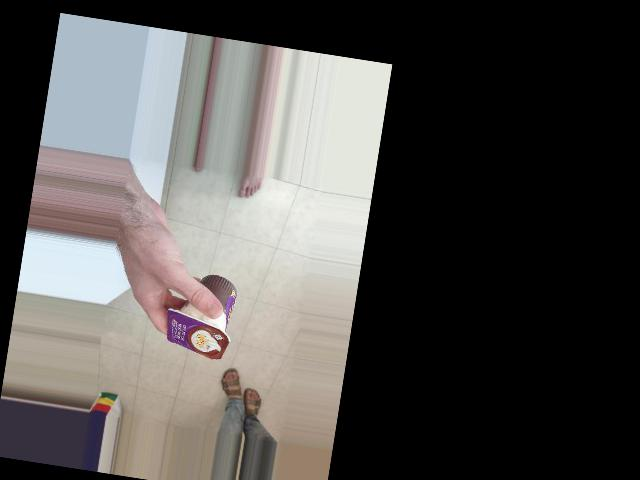milky: (170, 298, 265, 372)
